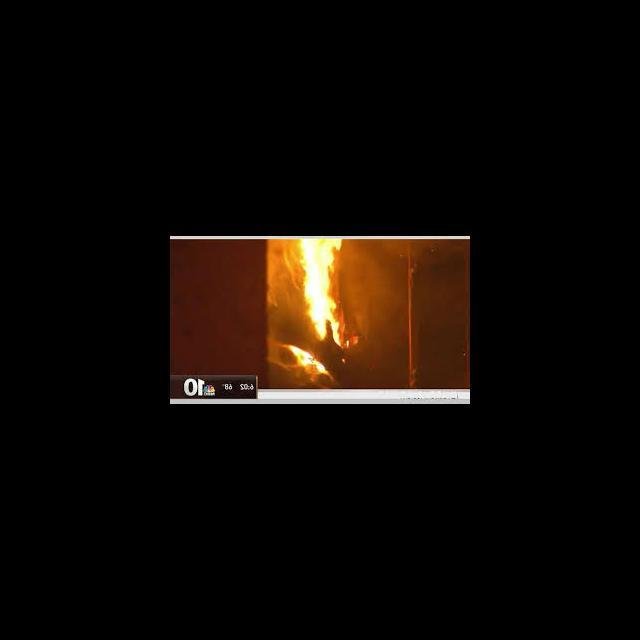Fire: (300, 239, 344, 346), (286, 343, 335, 376)
